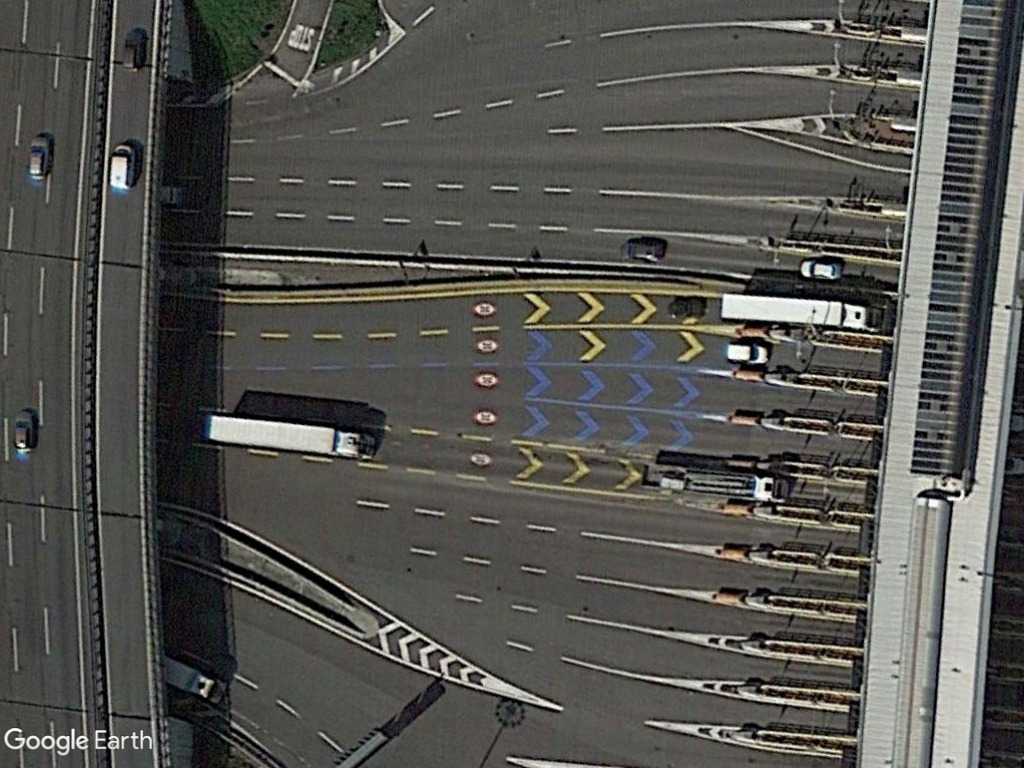car: (797, 255, 848, 283), (9, 406, 37, 455), (25, 134, 52, 181), (616, 239, 668, 263)
longvehicle: (196, 411, 380, 467), (718, 289, 887, 333)
van: (108, 142, 139, 191), (723, 340, 773, 367)
